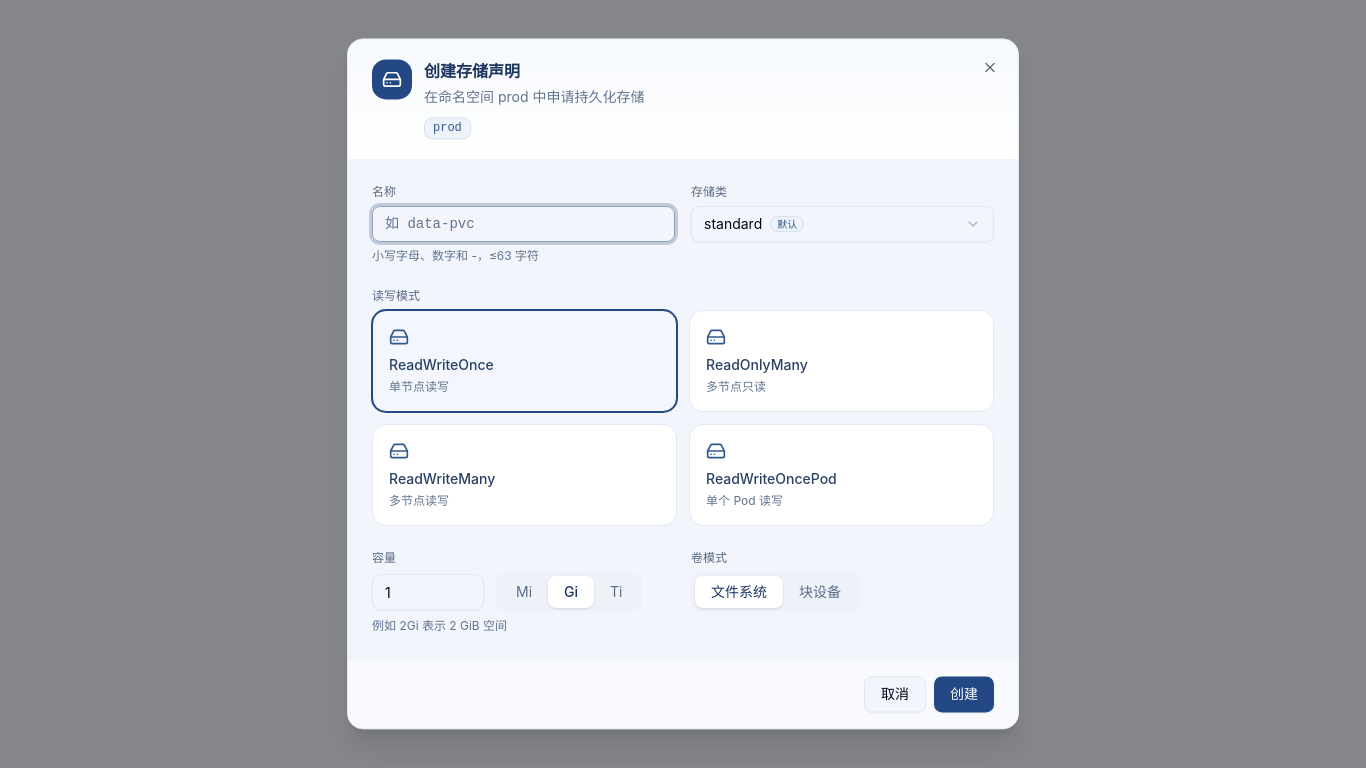
Test: PvcCreateDialog › shows 同名存储声明已存在 on a 409 from the real create
Type "data-vol" into the field named "名称" at (524, 224), box [372, 206, 675, 242]
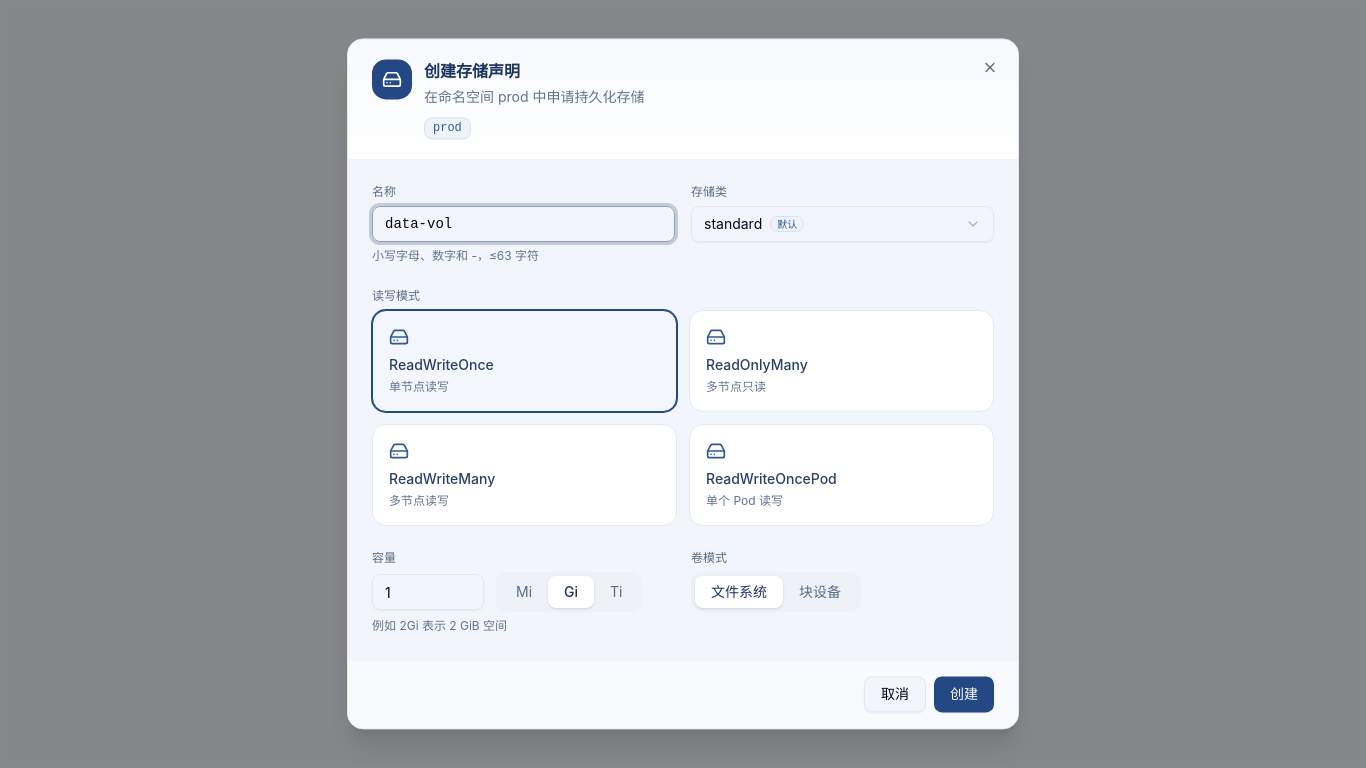
Click the button "创建" at (964, 695), box [934, 677, 994, 713]
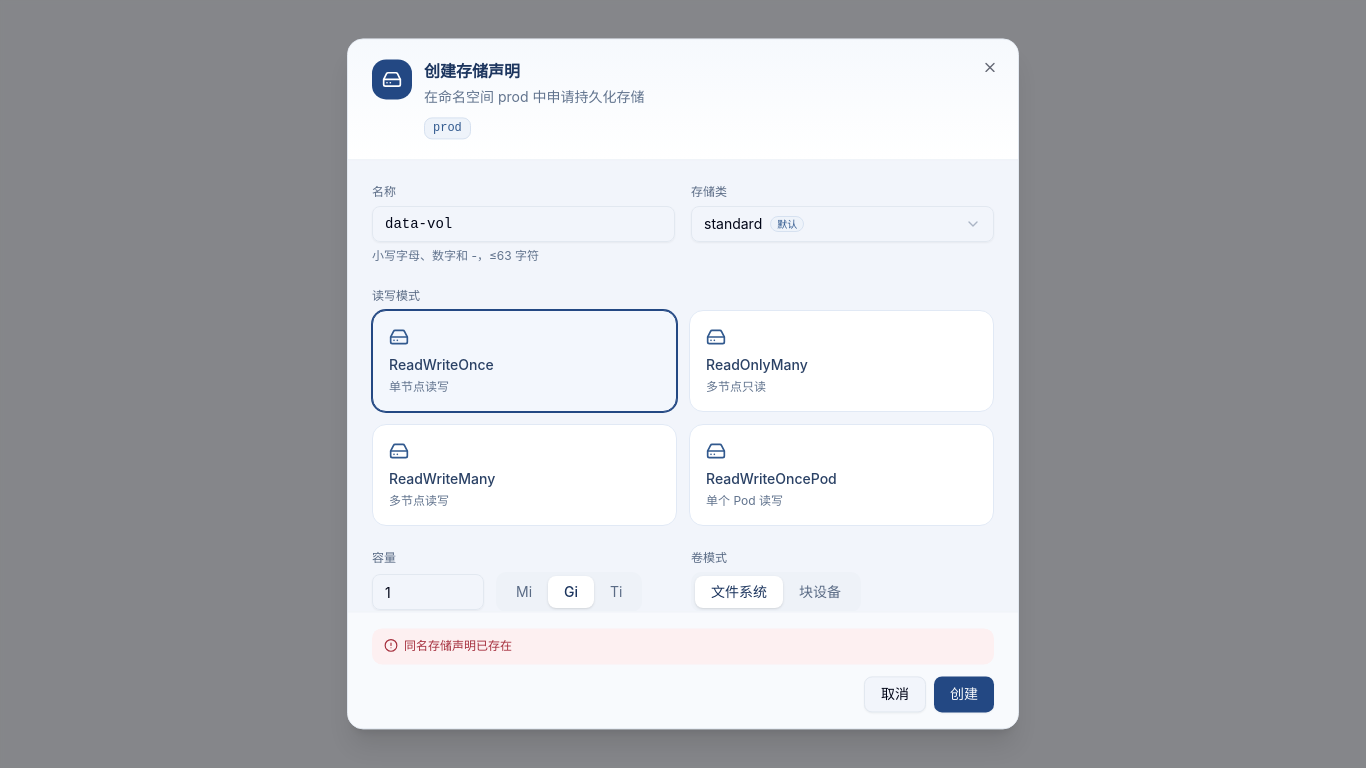
Now the text "同名存储声明已存在" is shown, box [404, 637, 512, 657]
